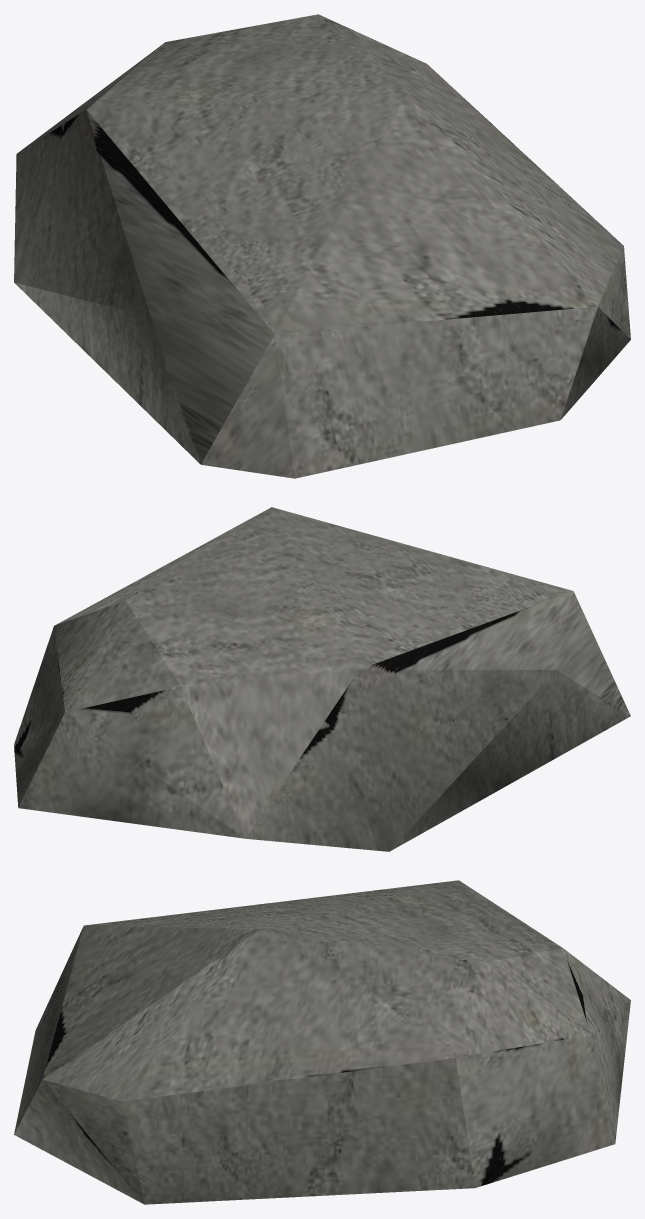
File: Granite2_LOD1.FBX
3 renders of one model, top to bottom at view 1: azimuth 30°, elevation 25°; view 2: azimuth 150°, elevation 25°; view 3: azimuth 270°, elevation 25°, orthographic. The views are drawn at different scales.
Parts seen in each view (by area): view 1: Granite004; view 2: Granite004; view 3: Granite004.
Boxes of the visible parts, x1,y1,x2,y2 form: Granite004: [14, 14, 630, 478]; Granite004: [14, 507, 630, 851]; Granite004: [14, 880, 630, 1204].
Size of the model in its own units: 23.81 by 11.51 by 31.
Materials: 1 (1 with a texture image).
